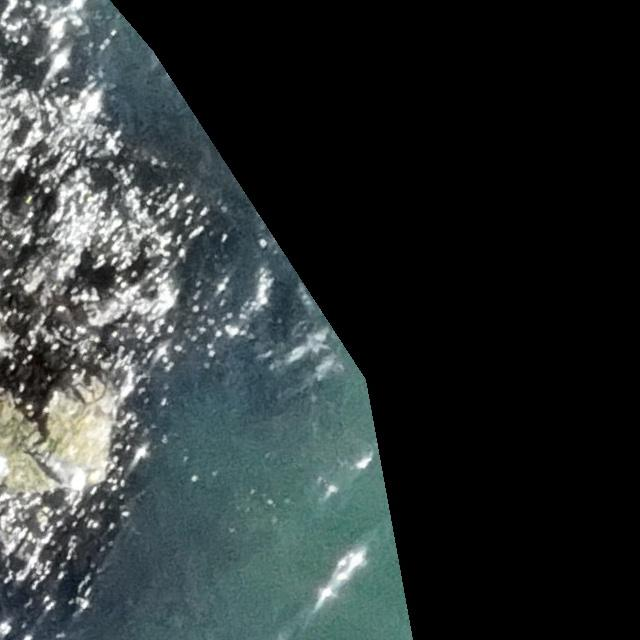umineko: (44, 460, 90, 491)
